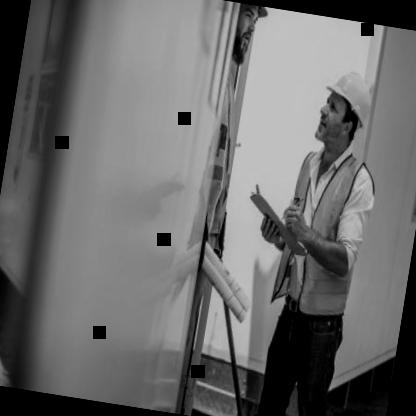helmet: (310, 63, 378, 154), (228, 2, 273, 67)
